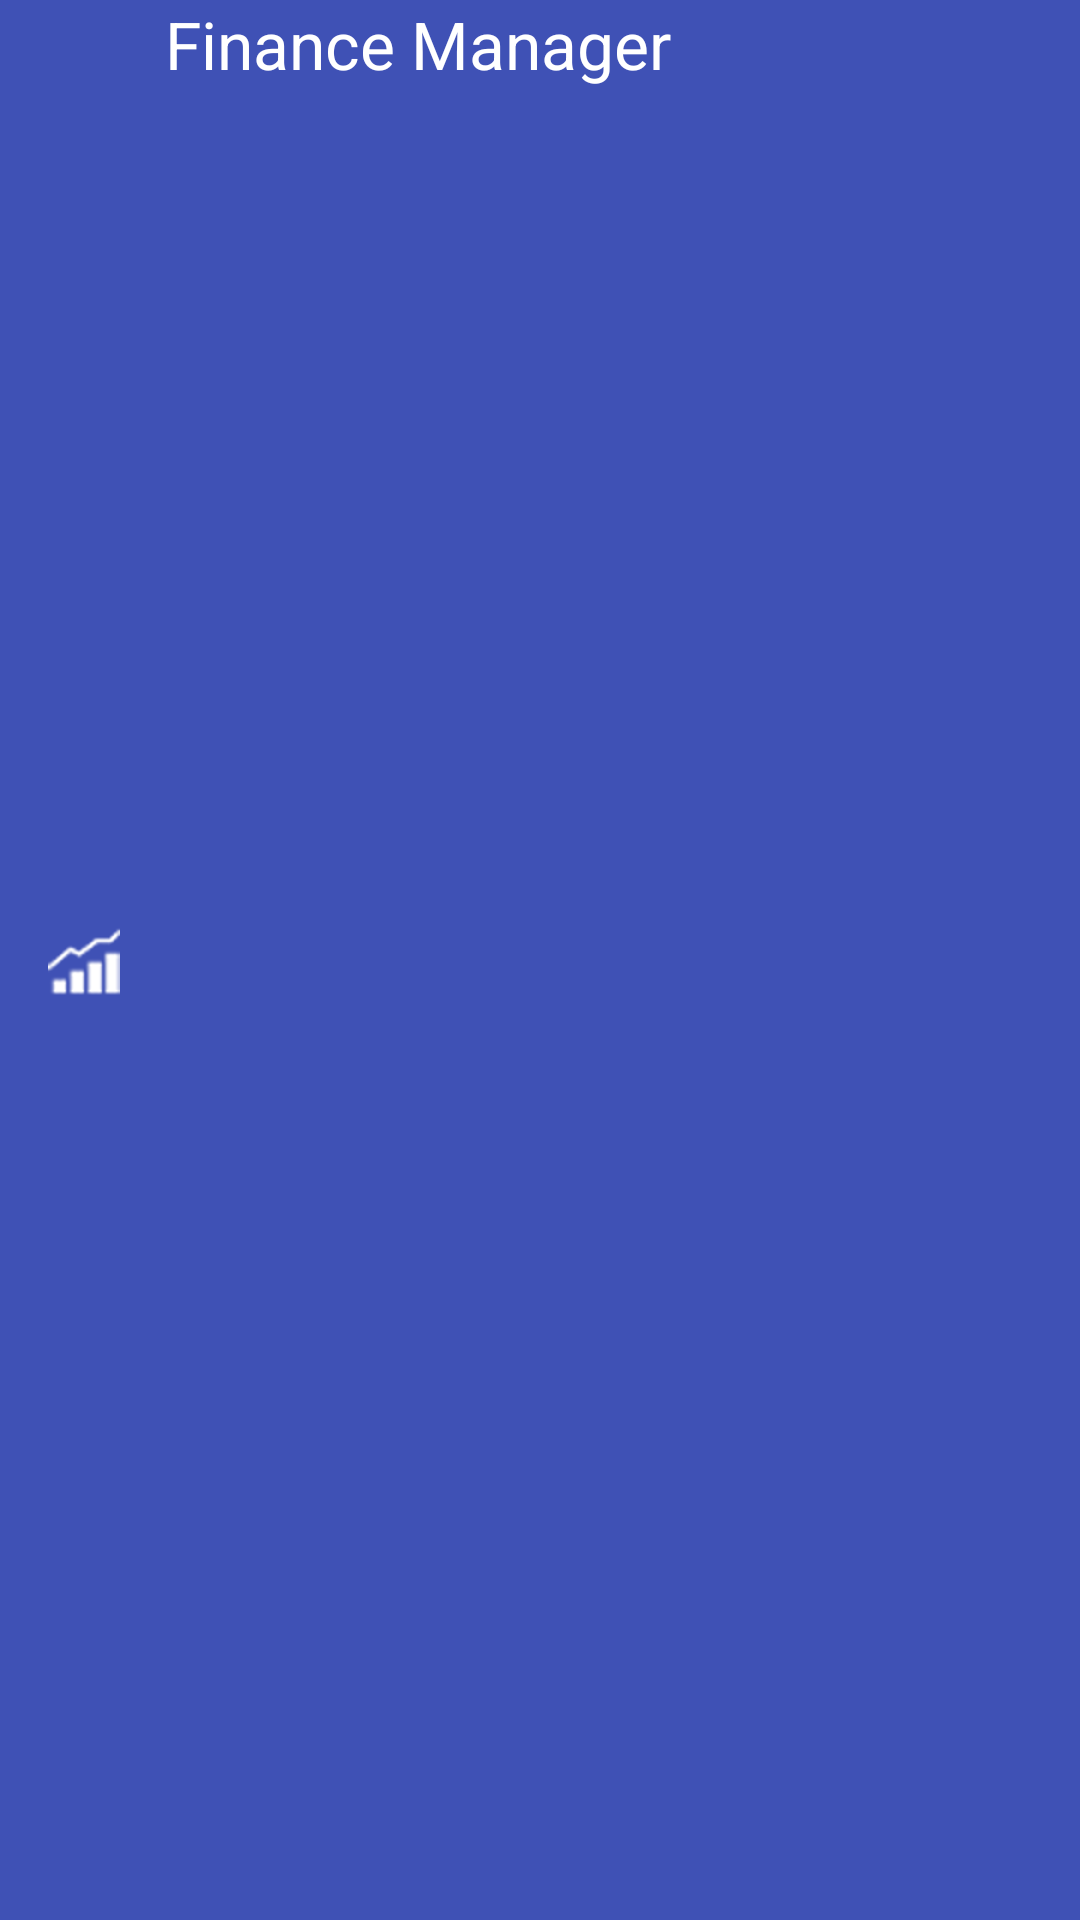

Where to tap for icons on this 1080 x 1920 app screen, as (x=x, y=y):
app icon: (x=84, y=961)
